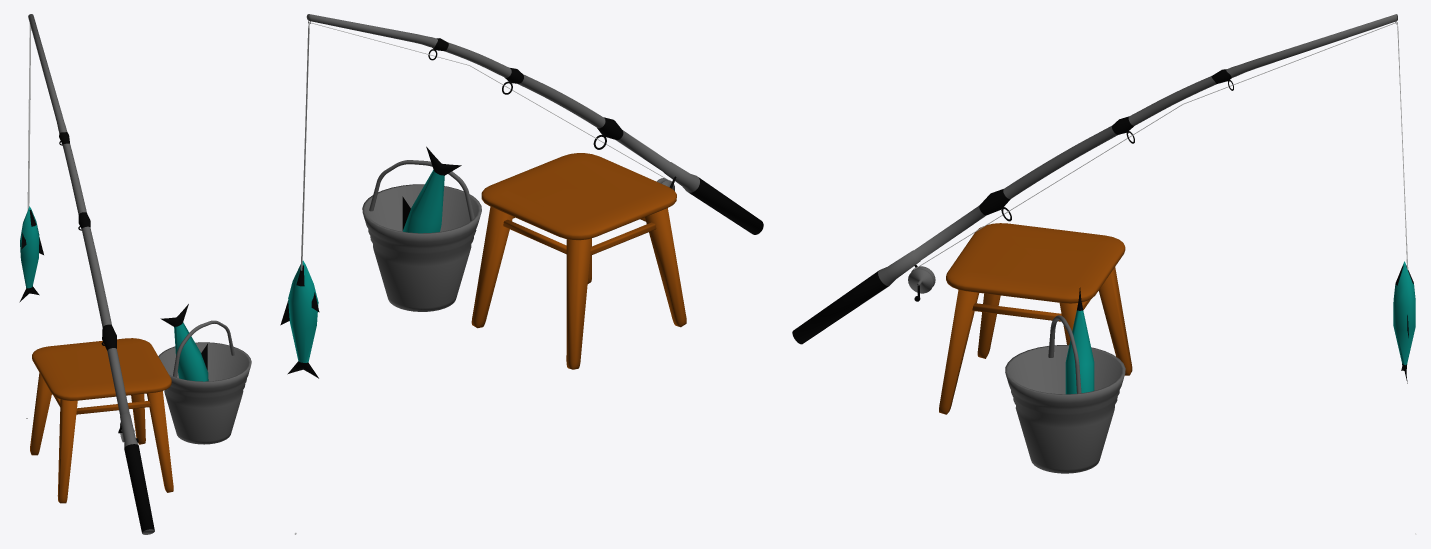
File: stoolnew.fbx
3 renders of one model, left to right at view 1: azimuth 30°, elevation 25°; view 2: azimuth 150°, elevation 25°; view 3: azimuth 270°, elevation 25°, orthographic. The views are drawn at different scales.
Visible parts, largest first — view 1: Cube.001, Cylinder.003, Cylinder, Cylinder.004, Cylinder.002; view 2: Cube.001, Cylinder.003, Cylinder, Cylinder.002, Cylinder.004; view 3: Cube.001, Cylinder.003, Cylinder, Cylinder.002, Cylinder.004.
Part boxes in pixels (left/top/right/bottom): Cube.001: left=30, top=338, right=173, bottom=503; Cylinder.003: left=158, top=320, right=251, bottom=444; Cylinder: left=26, top=14, right=154, bottom=534; Cylinder.004: left=160, top=304, right=208, bottom=381; Cylinder.002: left=19, top=206, right=43, bottom=302; Cube.001: left=471, top=153, right=686, bottom=369; Cylinder.003: left=362, top=160, right=481, bottom=311; Cylinder: left=294, top=14, right=763, bottom=534; Cylinder.002: left=280, top=260, right=319, bottom=378; Cylinder.004: left=402, top=146, right=461, bottom=233; Cube.001: left=939, top=223, right=1132, bottom=414; Cylinder.003: left=1005, top=315, right=1125, bottom=473; Cylinder: left=792, top=14, right=1416, bottom=534; Cylinder.002: left=1393, top=261, right=1415, bottom=383; Cylinder.004: left=1065, top=287, right=1094, bottom=394.
Bounding box in the file's own units: 2.84 × 5.09 × 5.55.
